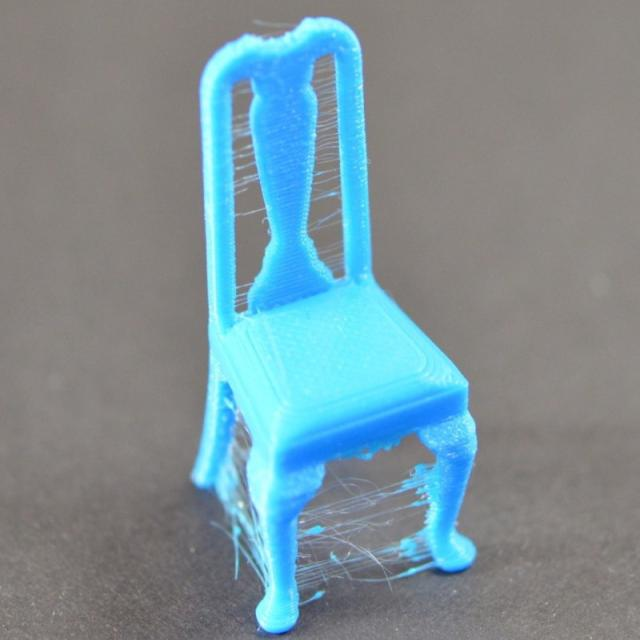stringing: (286, 468, 449, 604), (233, 77, 275, 327), (225, 401, 266, 601)
